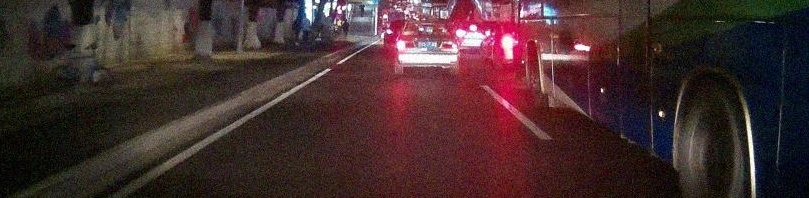L_light: (397, 42, 415, 48)
R_light: (442, 42, 458, 49)
T_light: (421, 25, 429, 27)
night-left: (396, 23, 460, 76)
